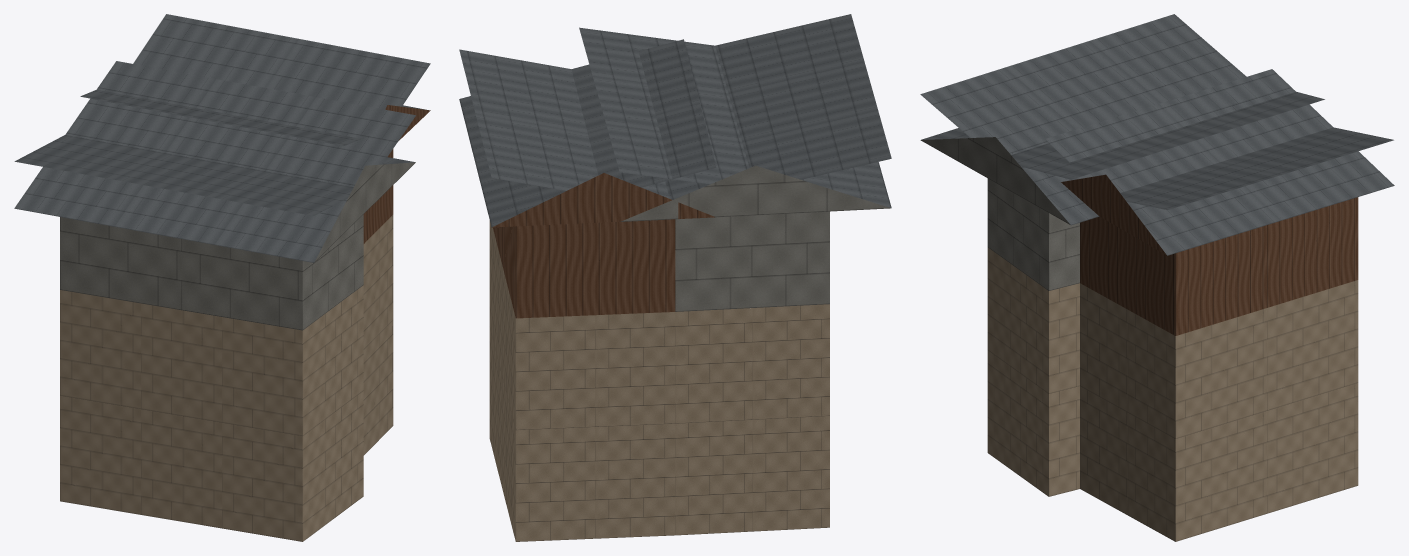
File: bld_c42_47_187.gltf
3 views of the same model, side by side, from view 1: azimuth 30°, elevation 25°; view 2: azimuth 150°, elevation 25°; view 3: azimuth 270°, elevation 25° (orthographic). The views are drawn at different scales.
Visible parts, largest first — view 1: bld_c42_47_187; view 2: bld_c42_47_187; view 3: bld_c42_47_187.
Part boxes in pixels (x1=…): bld_c42_47_187: x1=14, y1=14, x2=430, y2=541; bld_c42_47_187: x1=459, y1=14, x2=891, y2=541; bld_c42_47_187: x1=920, y1=14, x2=1394, y2=541.
Bounding box in the file's own units: 9.2 × 7.6 × 9.41.
6 materials, 6 textured.
